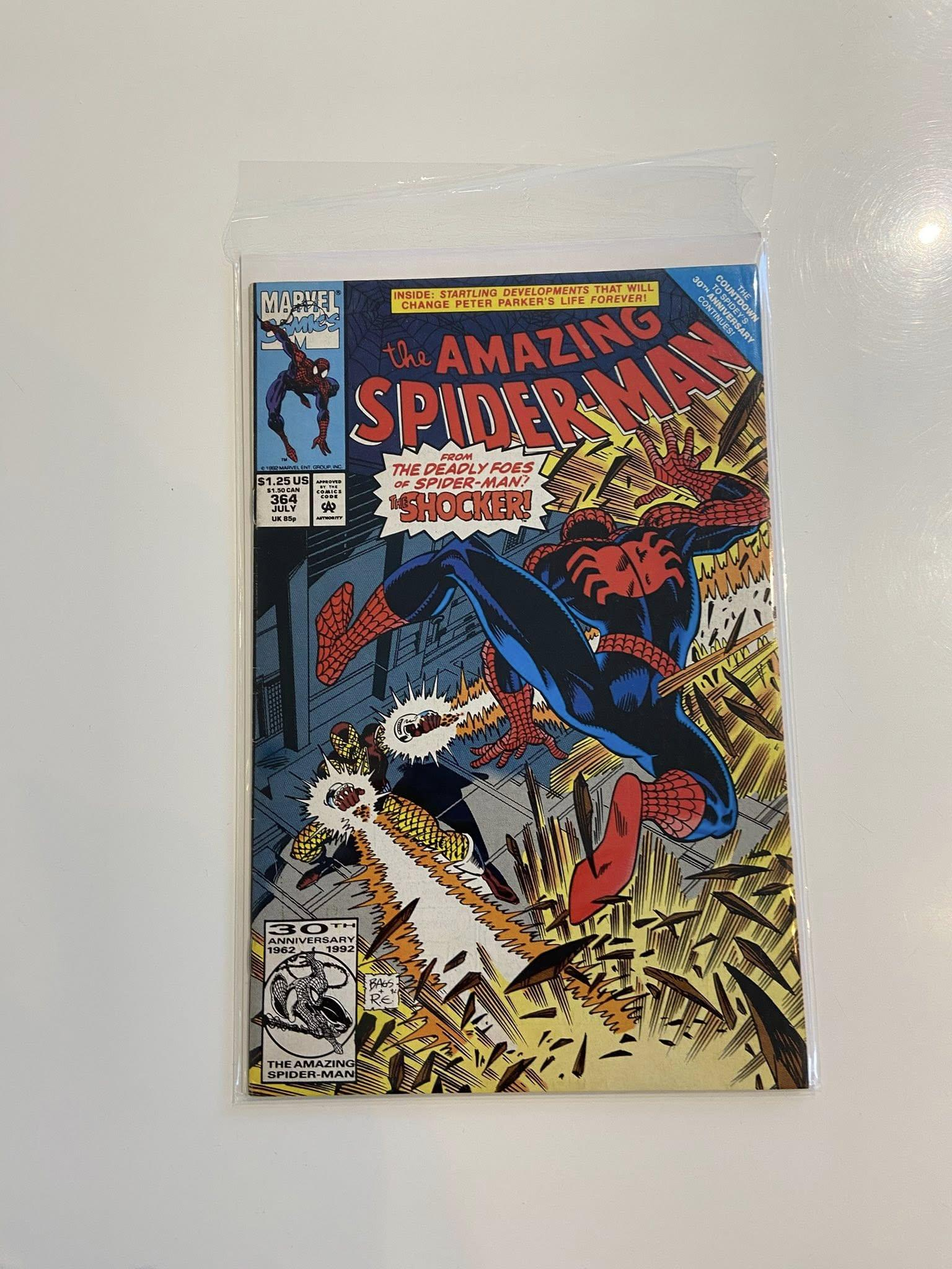comic: (218, 264, 808, 1108)
